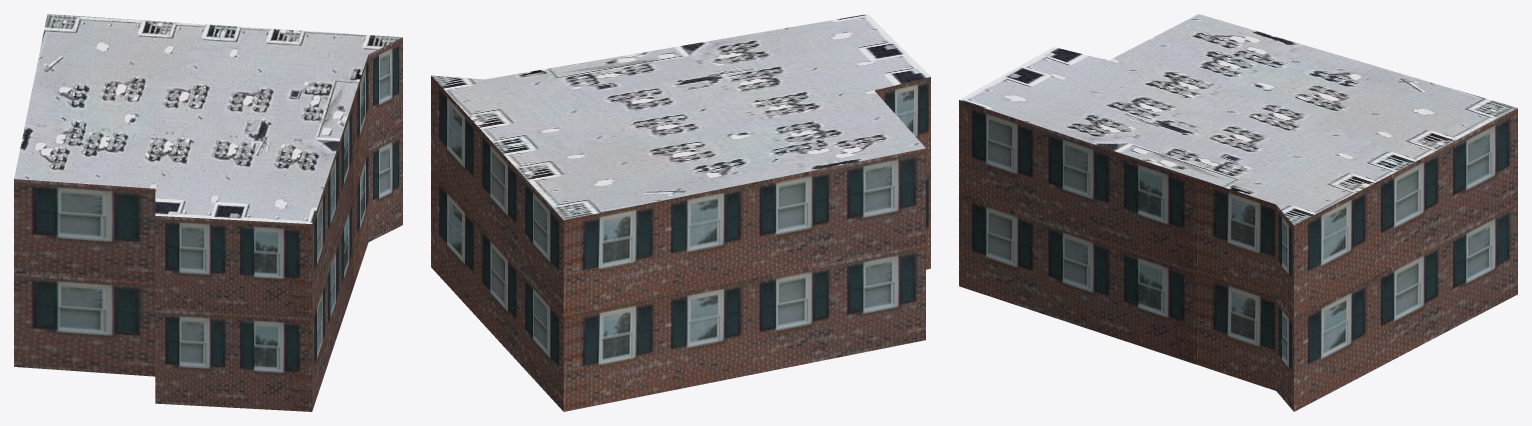
Rendered from ResTex__200.fbx.
3 renders of one model, left to right at view 1: azimuth 30°, elevation 25°; view 2: azimuth 150°, elevation 25°; view 3: azimuth 270°, elevation 25°, orthographic. The views are drawn at different scales.
Parts seen in each view (by area): view 1: CityEngineMaterial_14_m, CityEngineMaterial_8_m; view 2: CityEngineMaterial_14_m, CityEngineMaterial_8_m; view 3: CityEngineMaterial_14_m, CityEngineMaterial_8_m.
Part boxes in pixels (x1,y1,x2,y2): CityEngineMaterial_14_m: (14, 37, 402, 411); CityEngineMaterial_8_m: (14, 14, 401, 223); CityEngineMaterial_14_m: (431, 76, 930, 411); CityEngineMaterial_8_m: (431, 14, 930, 219); CityEngineMaterial_14_m: (959, 100, 1517, 411); CityEngineMaterial_8_m: (959, 14, 1517, 225).
Bounding box in the file's own units: 14.6 × 6 × 16.3.
2 materials, 2 textured.
